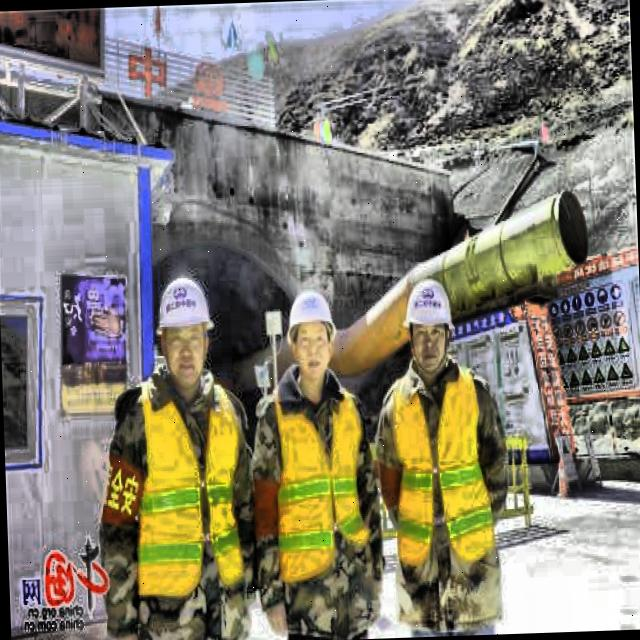helmet: (152, 265, 216, 398), (398, 263, 459, 382), (280, 282, 342, 384)
